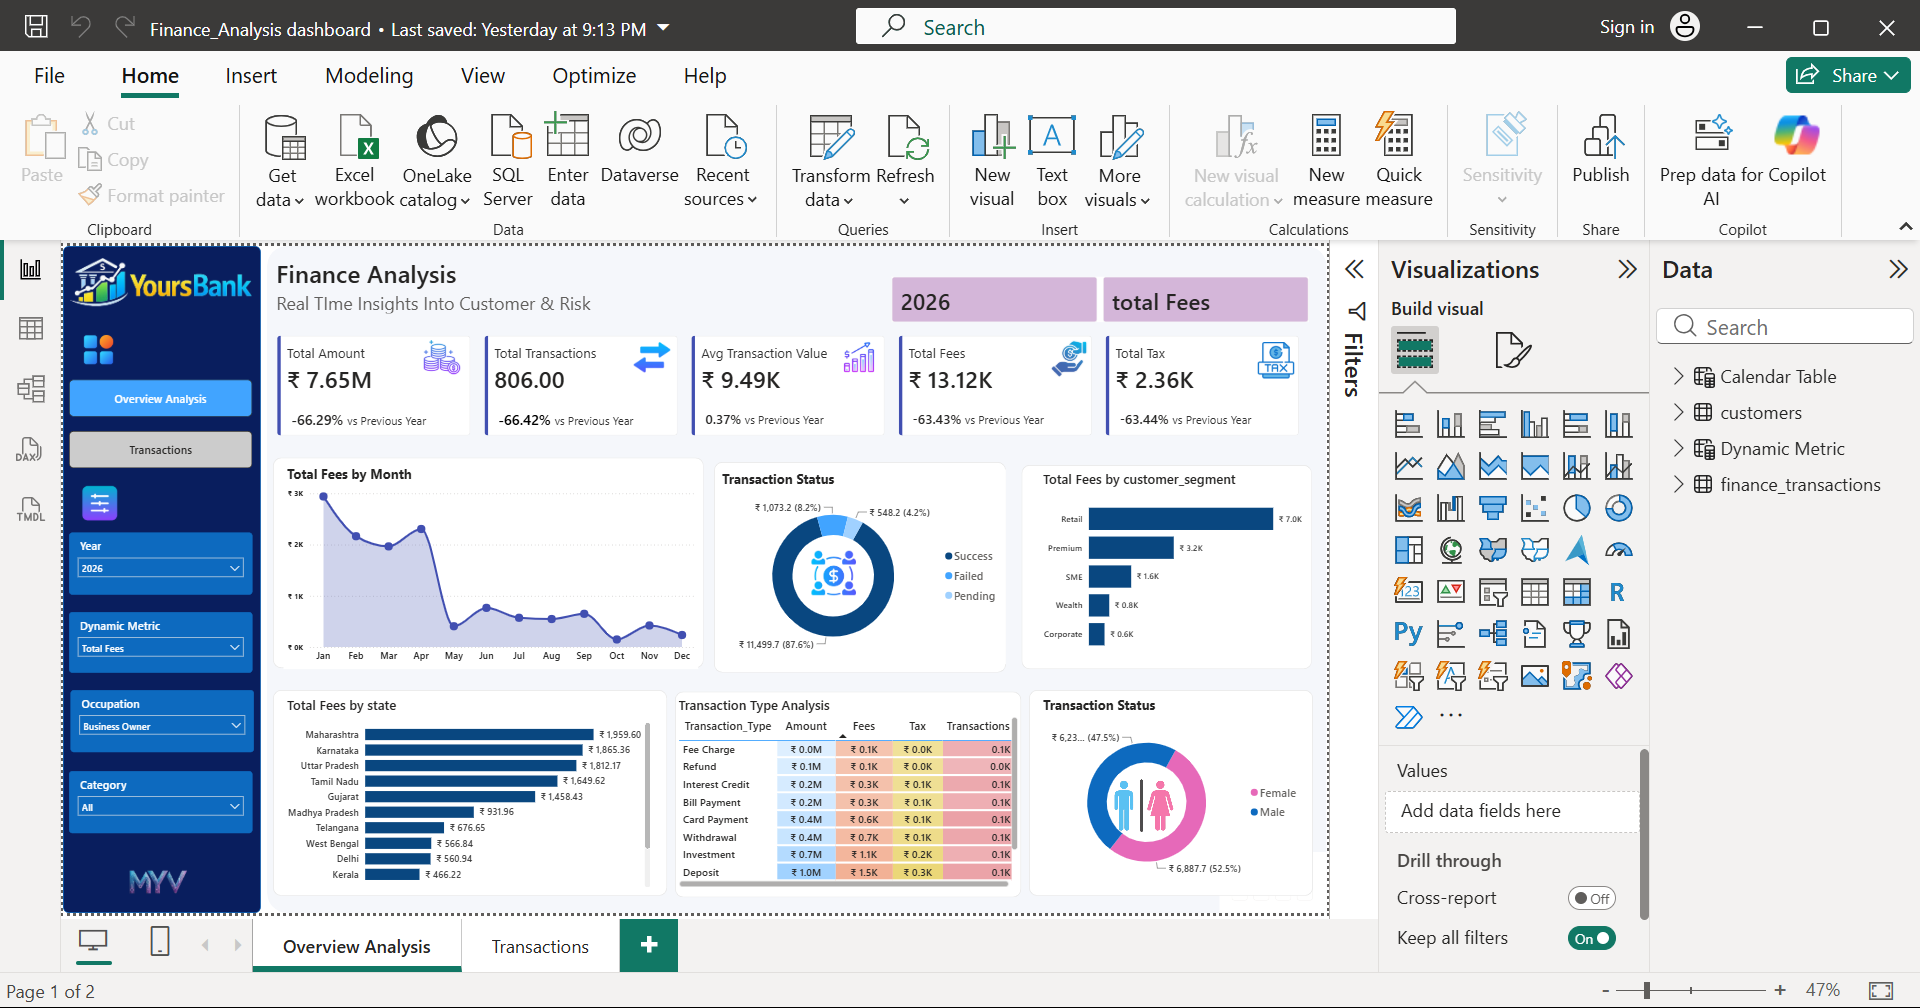

What the dashboard file says about the page in this screenshot:
{"tool":"powerbi","page":{"name":"Overview Analysis ","canvas":[1800,950],"ordinal":0},"visuals":[{"type":"shape","box":[0,0,281.8,950],"z":0},{"type":"shape","box":[290.9,0,1509.1,950],"z":1000},{"type":"image","box":[0,0,281.8,113.6],"z":2000},{"type":"cardVisual","fields":{"Data":["finance_transactions.Dashboard Title"]},"box":[279.5,0,634.1,113.6],"z":3000},{"type":"cardVisual","fields":{"Data":["finance_transactions.Total Amount","finance_transactions.Total Transactions","finance_transactions.Avg Transaction Value","finance_transactions.Total Fees","finance_transactions.Total Tax"]},"box":[300,122.7,1470.5,154.5],"z":4000},{"type":"slicer","fields":{"Values":["Calendar Table.Year"]},"box":[9.1,409.1,261.4,88.6],"z":5000},{"type":"cardVisual","fields":{"Data":["finance_transactions.Total Amount","finance_transactions.PY Amount","finance_transactions.YoY","finance_transactions.YoY % Amount"]},"box":[1647.7,863.6,152.3,86.4],"z":6000},{"type":"image","box":[497.7,131.8,84.1,52.3],"z":7000},{"type":"image","box":[797.7,131.8,84.1,52.3],"z":8000},{"type":"image","box":[1090.9,131.8,84.1,52.3],"z":9000},{"type":"image","box":[1390.9,134.1,84.1,52.3],"z":10000},{"type":"image","box":[1686.4,136.4,84.1,52.3],"z":11000},{"type":"slicer","fields":{"Values":["Dynamic Metric.Dynamic Metric"]},"box":[9.1,520.5,261.4,86.4],"z":12000},{"type":"shape","box":[300,302.3,613.6,300],"z":13000},{"type":"areaChart","fields":{"Y":["finance_transactions.Total Fees"],"Category":["Calendar Table.Month"]},"box":[313.6,311.4,590.9,290.9],"z":14000},{"type":"cardVisual","fields":{"Data":["finance_transactions.Selected Year","finance_transactions.Selected Dynamic Measure"]},"box":[1175,38.6,604.5,75],"z":15000},{"type":"shape","box":[927.3,306.8,415.9,300],"z":16000},{"type":"donutChart","title":"Transaction Status","fields":{"Y":["finance_transactions.Total Fees"],"Category":["finance_transactions.transaction_status"]},"box":[934.1,318.2,409.1,277.3],"z":17000},{"type":"shape","box":[1365.9,311.4,413.6,290.9],"z":18000},{"type":"barChart","fields":{"Y":["finance_transactions.Total Fees"],"Category":["customers.customer_segment"]},"box":[1390.9,318.2,379.5,272.7],"z":19000},{"type":"shape","box":[300,631.8,561.4,293.2],"z":20000},{"type":"barChart","fields":{"Y":["finance_transactions.Total Fees"],"Category":["customers.state"]},"box":[313.6,640.9,527.3,277.3],"z":21000},{"type":"shape","box":[872.7,634.1,493.2,293.2],"z":22000},{"type":"tableEx","title":"Transaction Type Analysis","fields":{"Values":["finance_transactions.transaction_type","finance_transactions.Total Amount","finance_transactions.Total Fees","finance_transactions.Total Tax","finance_transactions.Total Transactions"]},"box":[872.7,640.9,493.2,277.3],"z":23000},{"type":"shape","box":[1375,631.8,404.5,293.2],"z":24000},{"type":"donutChart","title":"Transaction Status","fields":{"Y":["finance_transactions.Total Fees"],"Category":["customers.gender"]},"box":[1390.9,640.9,379.5,277.3],"z":25000},{"type":"image","box":[1054.5,429.5,84.1,72.7],"z":26000},{"type":"image","box":[1497.7,759.1,84.1,77.3],"z":27000},{"type":"slicer","fields":{"Values":["customers.occupation"]},"box":[11.4,631.8,261.4,88.6],"z":28000},{"type":"slicer","fields":{"Values":["finance_transactions.merchant_category"]},"box":[9.1,747.7,261.4,88.6],"z":29000},{"type":"pageNavigator","box":[9.1,190.9,261.4,127.3],"z":30000},{"type":"image","box":[9.1,122.7,84.1,52.3],"z":31000},{"type":"image","box":[10.7,339.7,83.3,53.4],"z":32000},{"type":"image","box":[0,863.1,269.2,85.5],"z":32001}]}

Visuals, with their boxes on the page's 1800x950 design canvas (x1, y1, x2, y2). These are canvas units, not pixel positions in the 1920x1008 screenshot, which may show the page scaled, cropped or inside an application window:
shape: [0, 0, 282, 950]
shape: [291, 0, 1800, 950]
image: [0, 0, 282, 114]
cardVisual - finance_transactions.Dashboard Title: [280, 0, 914, 114]
cardVisual - finance_transactions.Total Amount x finance_transactions.Total Transactions: [300, 123, 1770, 277]
slicer - Calendar Table.Year: [9, 409, 270, 498]
cardVisual - finance_transactions.Total Amount x finance_transactions.PY Amount: [1648, 864, 1800, 950]
image: [498, 132, 582, 184]
image: [798, 132, 882, 184]
image: [1091, 132, 1175, 184]
image: [1391, 134, 1475, 186]
image: [1686, 136, 1770, 189]
slicer - Dynamic Metric.Dynamic Metric: [9, 520, 270, 607]
shape: [300, 302, 914, 602]
areaChart - finance_transactions.Total Fees x Calendar Table.Month: [314, 311, 904, 602]
cardVisual - finance_transactions.Selected Year x finance_transactions.Selected Dynamic Measure: [1175, 39, 1780, 114]
shape: [927, 307, 1343, 607]
"Transaction Status" donutChart: [934, 318, 1343, 596]
shape: [1366, 311, 1780, 602]
barChart - finance_transactions.Total Fees x customers.customer_segment: [1391, 318, 1770, 591]
shape: [300, 632, 861, 925]
barChart - finance_transactions.Total Fees x customers.state: [314, 641, 841, 918]
shape: [873, 634, 1366, 927]
"Transaction Type Analysis" tableEx: [873, 641, 1366, 918]
shape: [1375, 632, 1780, 925]
"Transaction Status" donutChart: [1391, 641, 1770, 918]
image: [1054, 430, 1139, 502]
image: [1498, 759, 1582, 836]
slicer - customers.occupation: [11, 632, 273, 720]
slicer - finance_transactions.merchant_category: [9, 748, 270, 836]
pageNavigator: [9, 191, 270, 318]
image: [9, 123, 93, 175]
image: [11, 340, 94, 393]
image: [0, 863, 269, 949]
